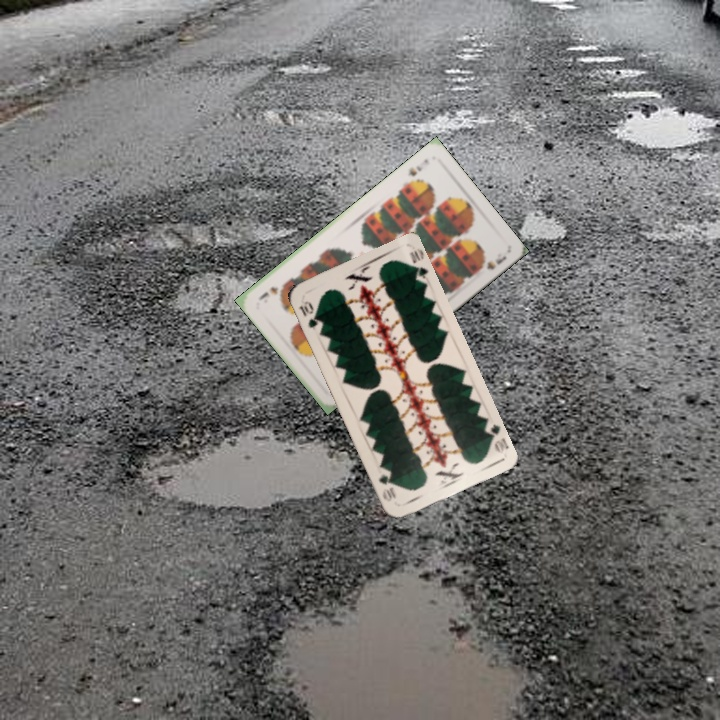G10: (481, 420, 511, 456), (294, 297, 322, 331)
S9: (403, 155, 432, 179)
